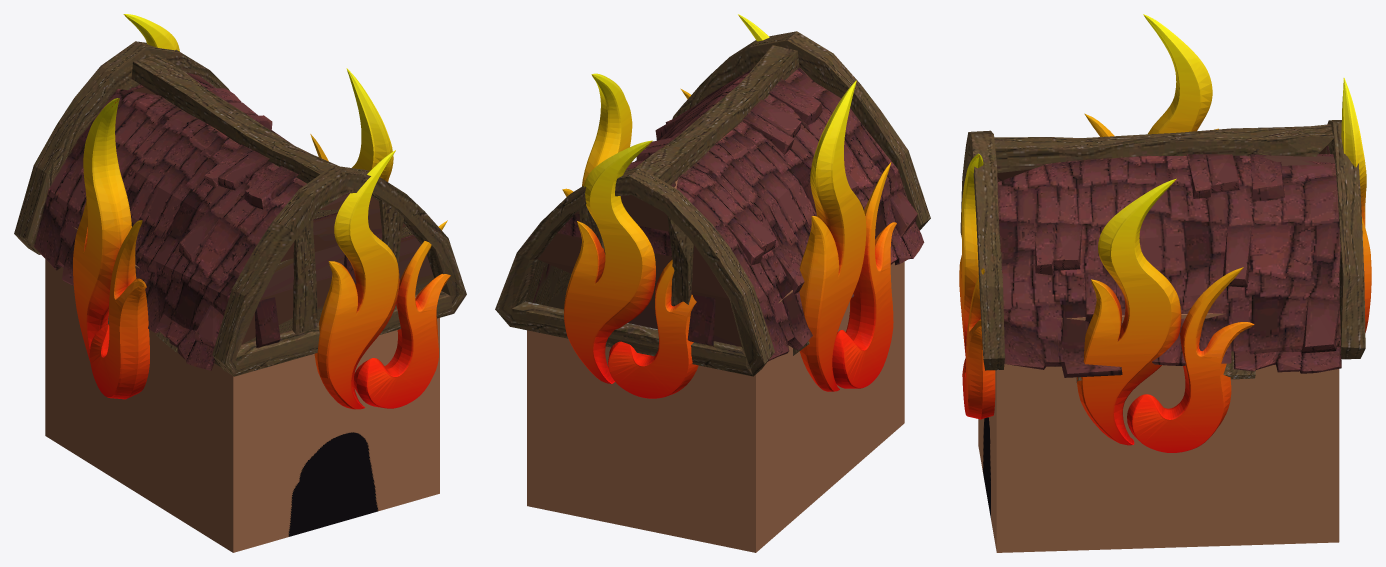
Rendered from fire_Barn.glb.
3 renders of one model, left to right at view 1: azimuth 30°, elevation 25°; view 2: azimuth 150°, elevation 25°; view 3: azimuth 270°, elevation 25°, orthographic. The views are drawn at different scales.
Size of the model in its own units: 1.13 by 1.51 by 1.37.
4 materials, 4 textured.
